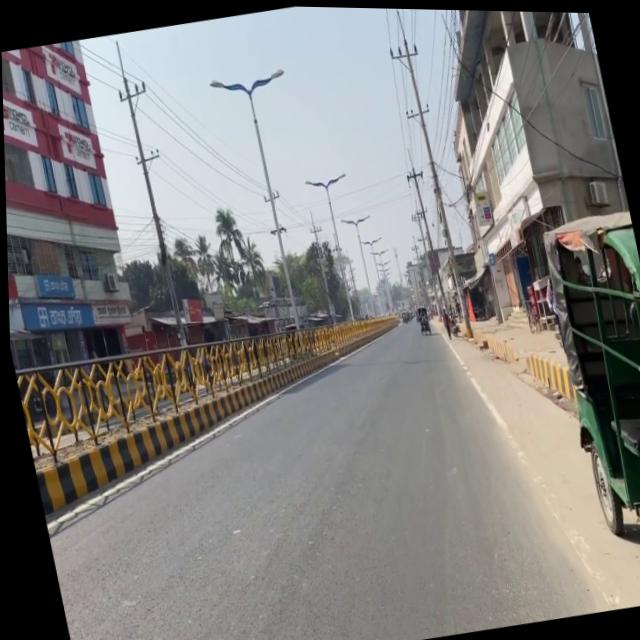Fallen-tree: (414, 311, 430, 334), (444, 312, 459, 336)
Garbage: (530, 202, 640, 565)
Garbage-bin: (570, 251, 590, 283), (437, 306, 451, 337)
Light-pole: (106, 36, 205, 391)
Pole: (11, 304, 349, 531)
Pothole: (463, 296, 576, 426)
